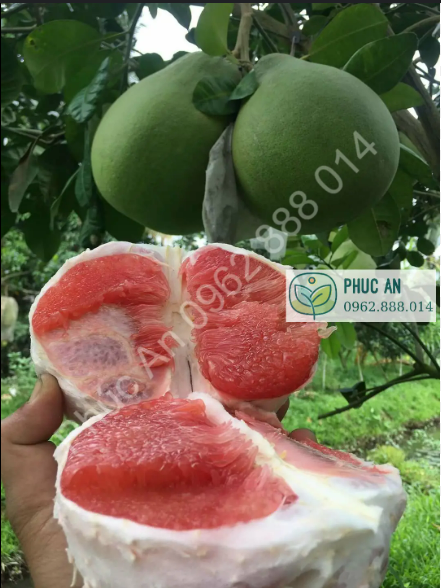buoi: (228, 49, 405, 237), (90, 40, 248, 236)
